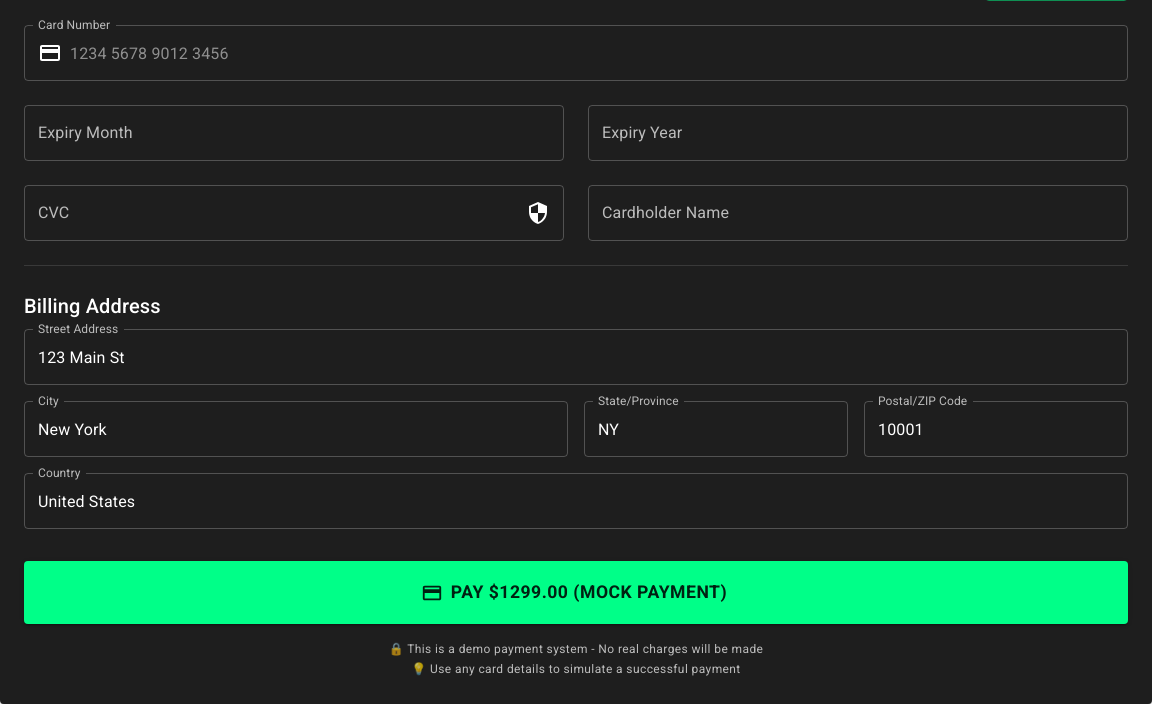
Scenario: MockPaymentForm Component › validates required fields
(page scrolled)
What coordinates should you click on to do the following:
click the button "Pay $1299.00 (Mock Payment)"
I would click on:
 (576, 593)
Its box is [24, 561, 1128, 624].
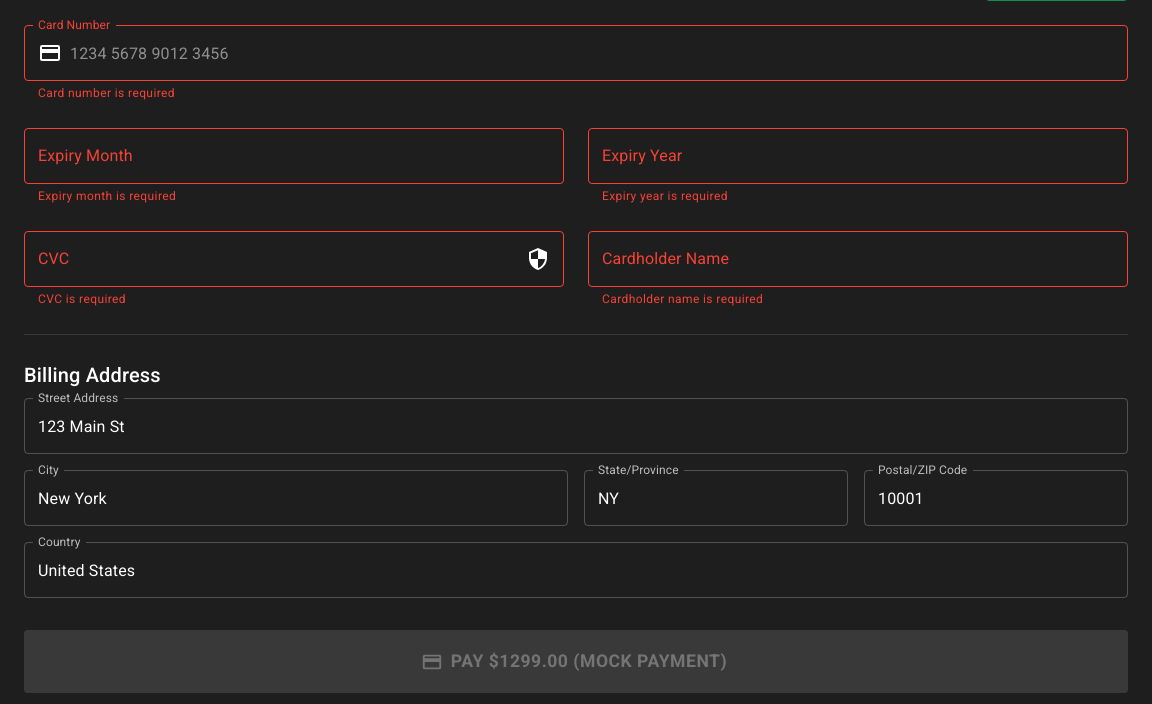
expect the text "Card number is required" is shown: met, box [38, 86, 175, 100]
expect the text "Expiry month is required" is shown: met, box [38, 189, 176, 203]
expect the text "Expiry year is required" is shown: met, box [602, 189, 728, 203]
